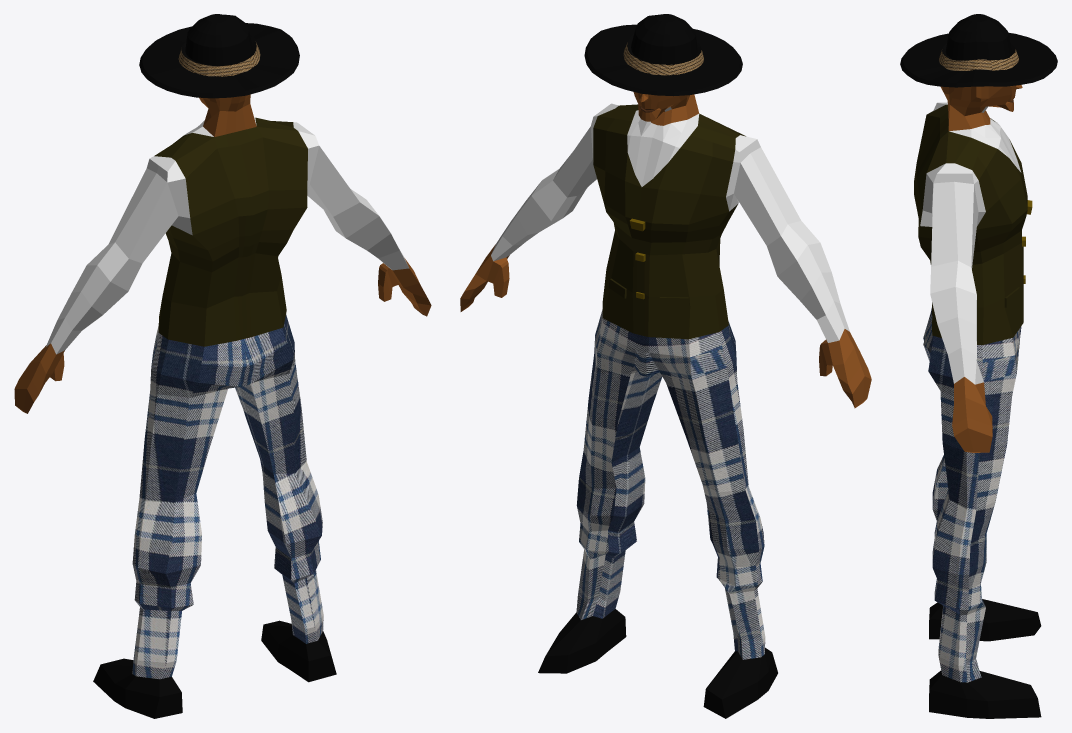
File: VisitorMan.fbx
3 renders of one model, left to right at view 1: azimuth 30°, elevation 25°; view 2: azimuth 150°, elevation 25°; view 3: azimuth 270°, elevation 25°, orthographic.
Parts seen in each view (by area): view 1: Man, Hat; view 2: Man, Hat; view 3: Man, Hat.
Boxes of the visible parts, left/top/right/bottom form: Man: left=14, top=94, right=431, bottom=718; Hat: left=139, top=14, right=299, bottom=98; Man: left=460, top=92, right=871, bottom=718; Hat: left=584, top=14, right=742, bottom=96; Man: left=914, top=85, right=1041, bottom=718; Hat: left=900, top=14, right=1057, bottom=87.
Bounding box in the file's own units: 306 × 487 × 107.
